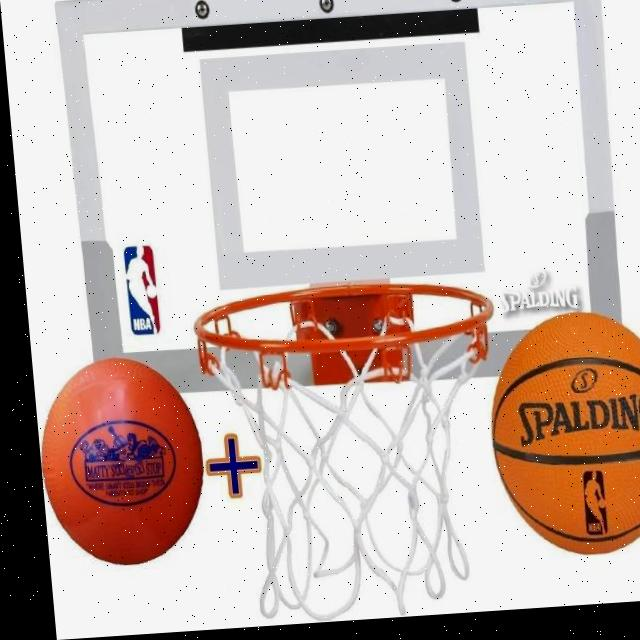Basketball: (481, 305, 640, 563), (32, 351, 212, 569)
